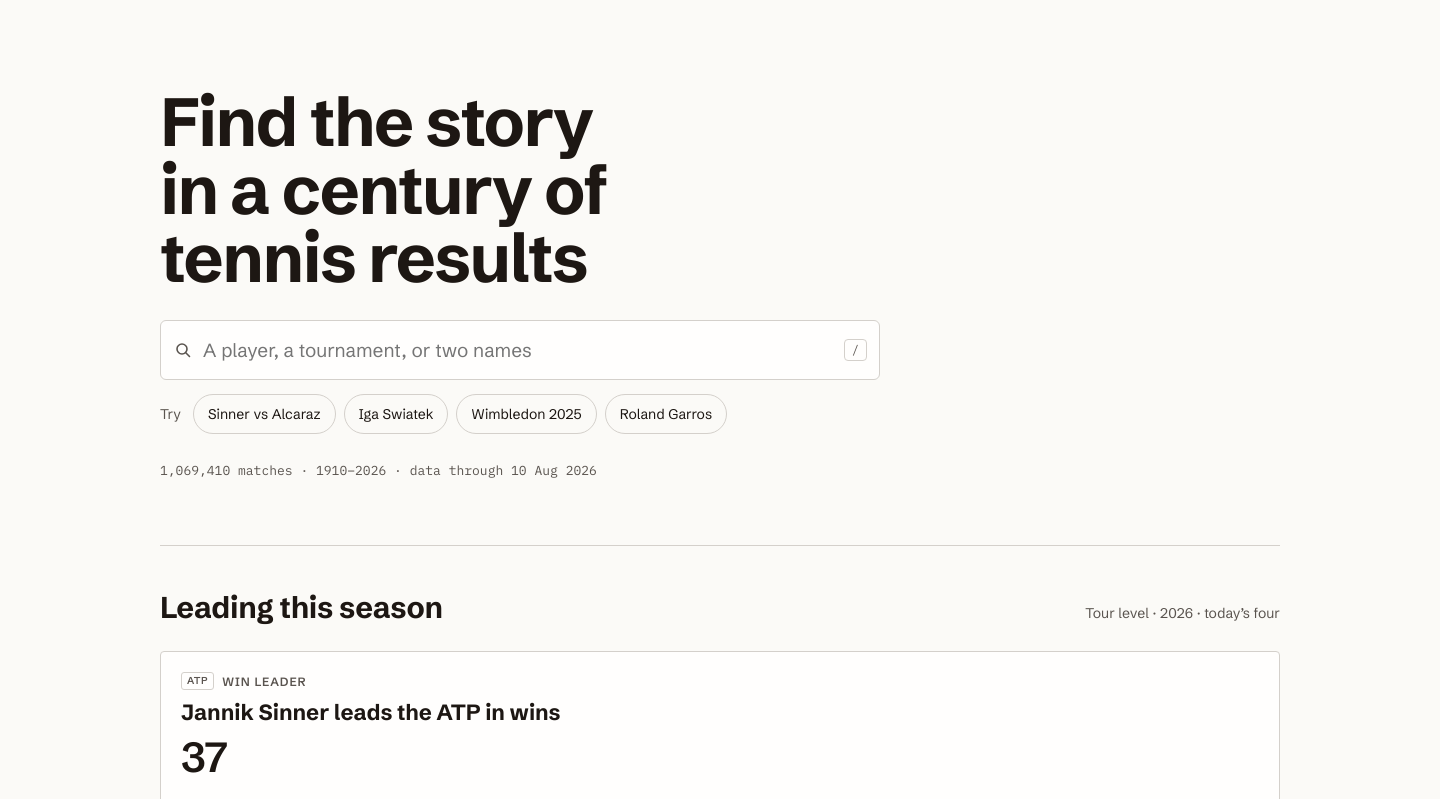
Test: HomePage › shows the hero with freshness and fills the search from a chip
The width and height of the screenshot is (1440, 799).
Check: the text "1,069,410 matches · 1910–2026 · data through 10 Aug 2026" is shown, box x1=160 y1=462 x2=597 y2=479
Click the button "Wimbledon 2025".
click(527, 414)  # box x1=456 y1=394 x2=597 y2=434
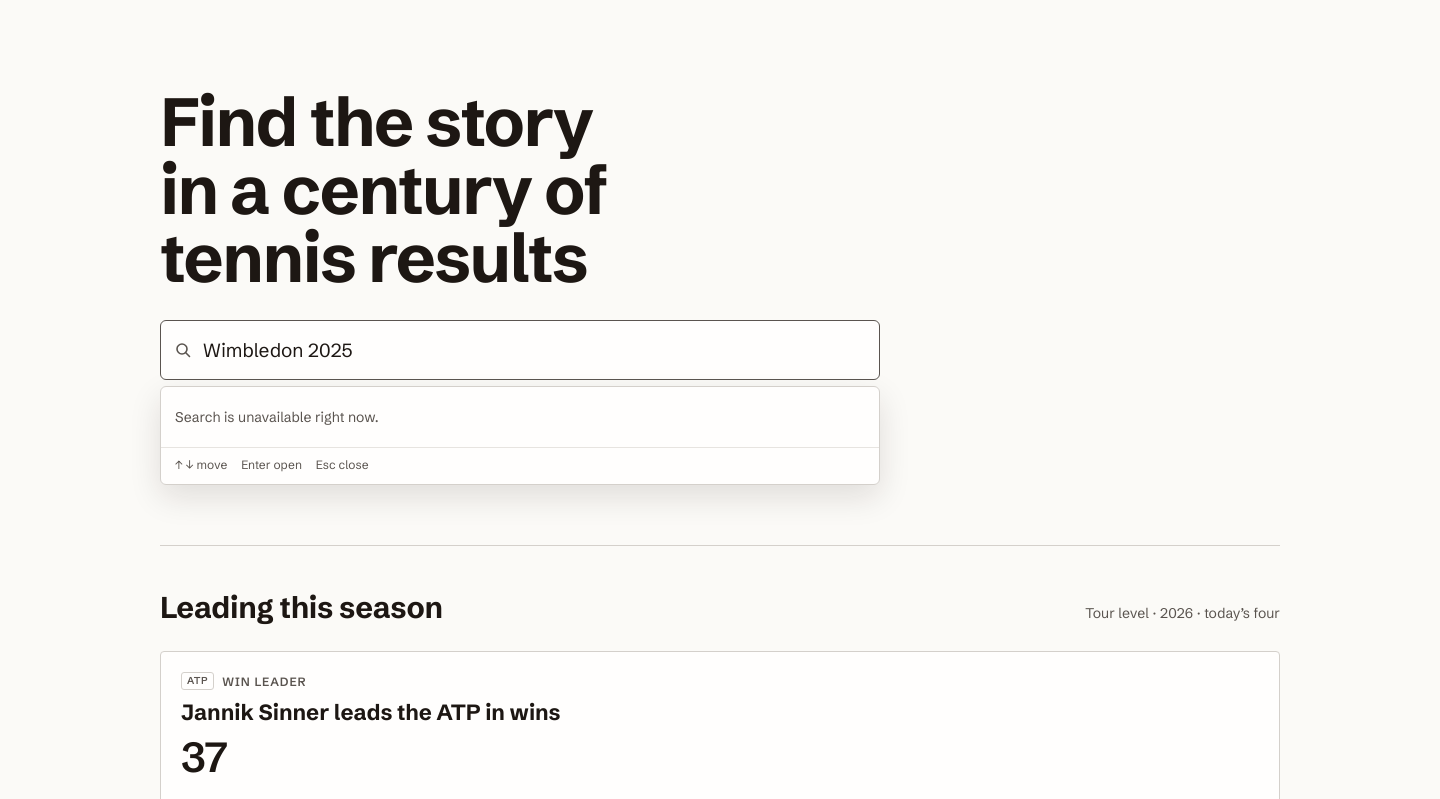
Check: the dropdown holds "Wimbledon 2025", box x1=201 y1=321 x2=867 y2=379
